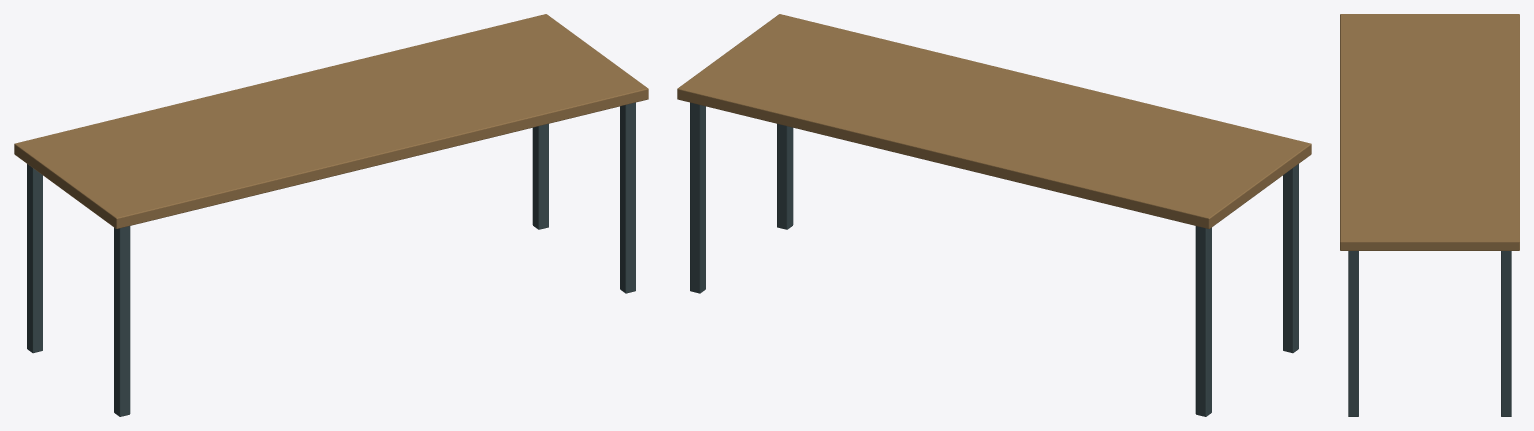
File: canopy.glb
3 renders of one model, left to right at view 1: azimuth 30°, elevation 25°; view 2: azimuth 150°, elevation 25°; view 3: azimuth 270°, elevation 25°, orthographic. The views are drawn at different scales.
Visible parts, largest first — view 1: canopy | Overhaul | repair stand canopy, canopy | Overhaul | repair stand post 2, canopy | Overhaul | repair stand post 3, canopy | Overhaul | repair stand post 0, canopy | Overhaul | repair stand post 1; view 2: canopy | Overhaul | repair stand canopy, canopy | Overhaul | repair stand post 0, canopy | Overhaul | repair stand post 1, canopy | Overhaul | repair stand post 2, canopy | Overhaul | repair stand post 3; view 3: canopy | Overhaul | repair stand canopy, canopy | Overhaul | repair stand post 1, canopy | Overhaul | repair stand post 3.
Part boxes in pixels (x1,y1,x2,y2): canopy | Overhaul | repair stand canopy: [14, 14, 648, 228]; canopy | Overhaul | repair stand post 2: [114, 226, 130, 416]; canopy | Overhaul | repair stand post 3: [620, 102, 635, 293]; canopy | Overhaul | repair stand post 0: [27, 164, 42, 353]; canopy | Overhaul | repair stand post 1: [532, 124, 548, 229]; canopy | Overhaul | repair stand canopy: [677, 14, 1311, 228]; canopy | Overhaul | repair stand post 0: [1195, 226, 1211, 416]; canopy | Overhaul | repair stand post 1: [690, 102, 705, 293]; canopy | Overhaul | repair stand post 2: [1283, 164, 1298, 353]; canopy | Overhaul | repair stand post 3: [777, 124, 793, 229]; canopy | Overhaul | repair stand canopy: [1340, 14, 1519, 250]; canopy | Overhaul | repair stand post 1: [1501, 251, 1511, 416]; canopy | Overhaul | repair stand post 3: [1348, 251, 1358, 416].
Bounding box in the file's own units: 6 × 2.2 × 2.
